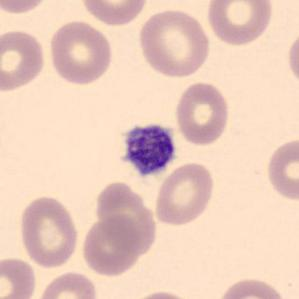Lymphocyte: (111, 116, 182, 184)
Platelets: (111, 116, 182, 182)
RBC: (135, 6, 213, 80), (92, 177, 160, 258), (16, 194, 80, 269), (46, 18, 114, 87), (153, 160, 217, 227), (173, 80, 232, 147), (80, 214, 141, 278), (204, 0, 275, 48), (0, 27, 47, 94), (264, 136, 298, 203), (34, 269, 100, 299), (78, 0, 150, 27), (214, 275, 289, 299), (0, 254, 38, 299), (285, 27, 299, 91), (0, 0, 53, 16), (126, 288, 198, 299)
